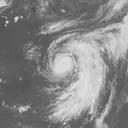cyclone: (43, 23, 125, 121)
